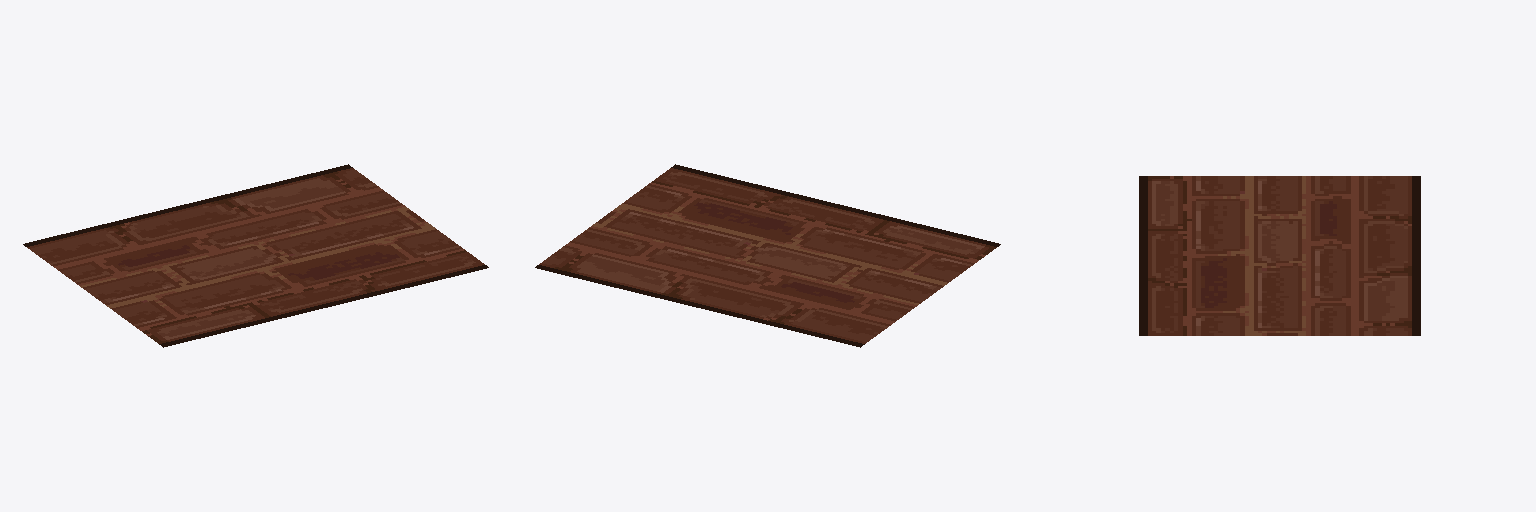
The picture shows the model from 3 angles: view 1: azimuth 30°, elevation 25°; view 2: azimuth 150°, elevation 25°; view 3: azimuth 270°, elevation 25°; orthographic projection.
Parts seen in each view (by area): view 1: map; view 2: map; view 3: map.
Boxes of the visible parts, x1,y1,x2,y2 form: map: [23, 164, 488, 347]; map: [535, 164, 1000, 347]; map: [1139, 176, 1420, 335].
Size of the model in its own units: 4 by 0 by 3.
Materials: 1 (1 with a texture image).